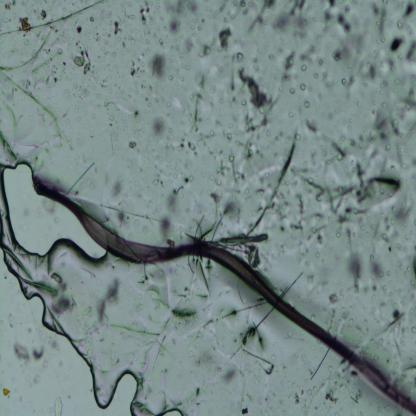Air bubble: (0, 253, 143, 416), (0, 158, 110, 260), (156, 404, 189, 416)
Background material: (1, 72, 67, 147), (342, 171, 402, 213), (34, 0, 102, 30), (291, 205, 328, 257), (174, 255, 211, 307), (156, 183, 187, 242), (136, 267, 172, 308), (273, 0, 311, 37), (373, 108, 403, 153), (240, 70, 271, 113), (204, 305, 246, 336), (98, 278, 124, 325), (237, 126, 267, 166), (214, 151, 244, 189), (215, 190, 244, 228), (281, 188, 306, 232), (245, 0, 276, 32), (380, 304, 410, 337), (80, 308, 101, 354), (240, 346, 274, 374), (187, 69, 211, 106), (217, 230, 272, 244), (50, 287, 75, 317), (186, 131, 208, 164), (42, 47, 69, 73), (339, 34, 368, 58), (357, 58, 379, 88), (130, 48, 151, 79), (346, 132, 376, 153), (354, 153, 378, 179), (346, 244, 364, 278), (243, 110, 268, 134), (237, 320, 262, 344), (369, 254, 392, 280), (151, 50, 169, 83), (376, 0, 392, 36), (191, 348, 217, 370), (325, 134, 348, 158), (170, 300, 196, 320), (102, 39, 124, 62), (216, 26, 235, 52), (110, 172, 128, 198), (164, 0, 193, 16), (72, 54, 92, 77), (174, 133, 197, 153), (136, 0, 152, 28), (198, 38, 218, 60), (152, 115, 168, 142), (50, 388, 65, 416), (396, 90, 415, 112), (227, 54, 237, 95), (289, 382, 306, 406), (306, 272, 324, 294), (128, 111, 144, 135), (42, 332, 60, 352), (30, 71, 54, 86), (388, 33, 406, 52), (72, 83, 90, 102), (396, 141, 413, 161), (166, 15, 181, 37), (122, 25, 137, 47), (15, 342, 30, 364), (324, 305, 336, 332), (334, 14, 352, 32), (300, 48, 316, 68), (322, 0, 334, 26), (190, 106, 204, 128), (277, 70, 291, 92), (406, 36, 416, 66), (326, 385, 341, 405), (186, 30, 199, 53), (392, 200, 406, 221), (306, 117, 322, 135), (339, 308, 355, 326), (113, 204, 125, 228), (380, 157, 395, 176), (116, 86, 134, 101), (381, 59, 396, 77), (50, 268, 66, 284), (249, 245, 260, 268), (30, 343, 44, 361), (97, 74, 111, 92), (224, 368, 238, 386), (405, 120, 416, 142), (401, 362, 416, 378), (330, 46, 346, 61), (20, 14, 32, 34), (150, 172, 165, 188), (348, 390, 364, 405), (284, 52, 296, 72), (106, 111, 121, 126), (138, 81, 154, 95), (401, 3, 415, 18), (102, 99, 118, 112), (76, 40, 88, 57), (4, 310, 16, 327), (384, 214, 395, 232), (338, 212, 350, 228), (261, 168, 271, 187), (144, 28, 153, 49), (181, 168, 194, 182), (240, 400, 251, 416), (118, 0, 129, 16), (248, 209, 258, 226), (206, 189, 220, 201), (112, 20, 121, 38), (346, 227, 355, 245), (192, 2, 200, 22), (195, 385, 203, 405), (347, 76, 354, 98), (330, 290, 340, 305), (240, 1, 250, 16), (328, 214, 340, 226), (32, 373, 42, 387), (2, 384, 12, 398), (91, 28, 101, 42), (234, 51, 244, 64), (353, 275, 360, 293), (370, 281, 379, 295), (412, 256, 416, 287), (87, 110, 99, 120), (395, 17, 405, 29), (306, 384, 316, 396), (39, 9, 49, 21), (218, 0, 228, 12), (3, 0, 16, 9), (251, 58, 260, 71), (209, 81, 217, 95), (138, 374, 146, 388), (408, 156, 416, 170), (213, 119, 223, 130), (128, 139, 138, 150), (92, 68, 99, 83), (409, 242, 416, 257), (229, 96, 239, 106), (342, 4, 352, 14), (226, 10, 235, 21), (395, 262, 406, 271), (223, 128, 230, 142), (155, 0, 161, 16), (350, 368, 358, 380), (310, 150, 316, 166), (167, 38, 179, 46), (298, 82, 308, 91), (318, 56, 326, 67), (74, 23, 82, 34), (319, 71, 330, 79), (377, 34, 385, 45), (219, 64, 225, 78), (356, 98, 365, 107), (87, 14, 97, 22), (298, 354, 308, 362), (206, 5, 212, 18), (206, 146, 213, 157), (379, 82, 386, 93), (132, 81, 139, 92), (258, 189, 265, 200), (381, 282, 389, 291), (319, 144, 325, 156), (408, 277, 414, 289), (334, 231, 342, 240), (374, 228, 379, 242), (288, 108, 295, 118), (166, 154, 172, 165), (404, 266, 410, 277), (152, 95, 160, 103), (324, 80, 332, 88), (312, 16, 320, 24), (212, 10, 221, 17), (208, 129, 215, 138), (127, 14, 136, 21), (157, 36, 164, 45), (167, 124, 174, 133), (219, 94, 225, 104), (364, 345, 370, 355), (315, 250, 321, 260), (402, 244, 408, 254), (273, 340, 279, 350), (95, 93, 101, 103), (397, 54, 404, 62), (301, 64, 308, 72), (362, 304, 369, 312), (305, 86, 314, 92), (290, 87, 296, 95), (180, 74, 186, 82), (141, 96, 149, 102), (268, 53, 274, 61), (329, 32, 335, 40), (342, 78, 347, 87), (328, 115, 337, 120), (409, 328, 416, 334), (393, 361, 399, 368), (370, 293, 376, 300), (139, 165, 145, 172), (404, 233, 410, 240), (384, 235, 390, 242), (105, 11, 111, 18), (218, 366, 223, 374), (180, 61, 185, 69), (245, 188, 250, 196), (174, 164, 179, 172), (223, 16, 228, 24), (392, 78, 400, 83), (364, 319, 370, 325), (148, 103, 154, 109), (172, 91, 178, 97), (185, 65, 191, 71), (216, 179, 222, 185), (374, 49, 380, 55), (76, 115, 82, 121), (313, 72, 319, 78), (304, 103, 311, 108), (379, 336, 384, 343), (140, 184, 145, 191), (167, 100, 172, 107), (272, 353, 277, 360), (382, 102, 387, 109), (180, 125, 185, 132), (274, 134, 278, 142), (371, 338, 376, 344), (366, 232, 371, 238), (160, 96, 165, 102), (389, 291, 394, 297), (275, 48, 281, 53), (347, 117, 353, 122), (203, 16, 207, 23), (171, 339, 175, 346), (115, 64, 119, 71), (296, 132, 300, 139), (397, 244, 402, 249), (348, 125, 352, 131), (360, 225, 364, 231), (180, 54, 184, 60), (176, 45, 180, 51), (98, 56, 102, 62), (168, 74, 172, 80), (278, 131, 282, 137), (326, 44, 330, 50), (306, 261, 310, 267), (206, 119, 210, 124), (197, 28, 202, 32), (373, 356, 377, 361), (372, 225, 376, 230), (122, 156, 126, 161), (158, 25, 160, 34), (180, 33, 183, 39), (410, 230, 414, 234), (160, 18, 164, 22), (202, 172, 206, 176), (122, 120, 126, 124), (389, 247, 392, 252), (269, 133, 272, 138), (327, 160, 330, 165), (234, 2, 237, 6), (192, 26, 195, 29), (118, 84, 121, 87), (127, 65, 129, 68), (98, 124, 100, 126), (170, 61, 173, 62)
Glass filter fibre: (237, 124, 301, 232), (0, 30, 54, 72), (110, 319, 162, 338), (309, 346, 333, 384), (0, 132, 17, 160)
Microfibre: (32, 177, 416, 412)
